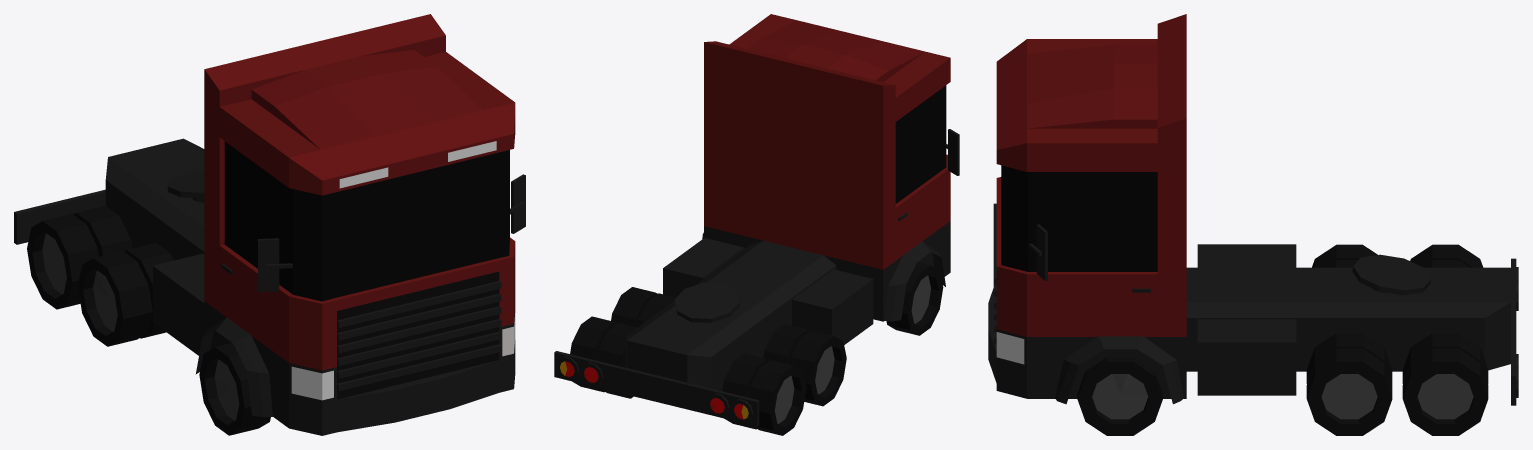
The model's file is SM_truck02.FBX.
3 views of the same model, side by side, from view 1: azimuth 30°, elevation 25°; view 2: azimuth 150°, elevation 25°; view 3: azimuth 270°, elevation 25° (orthographic). The views are drawn at different scales.
Parts seen in each view (by area): view 1: truck02; view 2: truck02; view 3: truck02.
Boxes of the visible parts, bbox=[...] form: truck02: bbox=[14, 14, 525, 435]; truck02: bbox=[554, 14, 959, 435]; truck02: bbox=[988, 14, 1518, 435].
Bounding box in the file's own units: 272 × 322 × 495.
